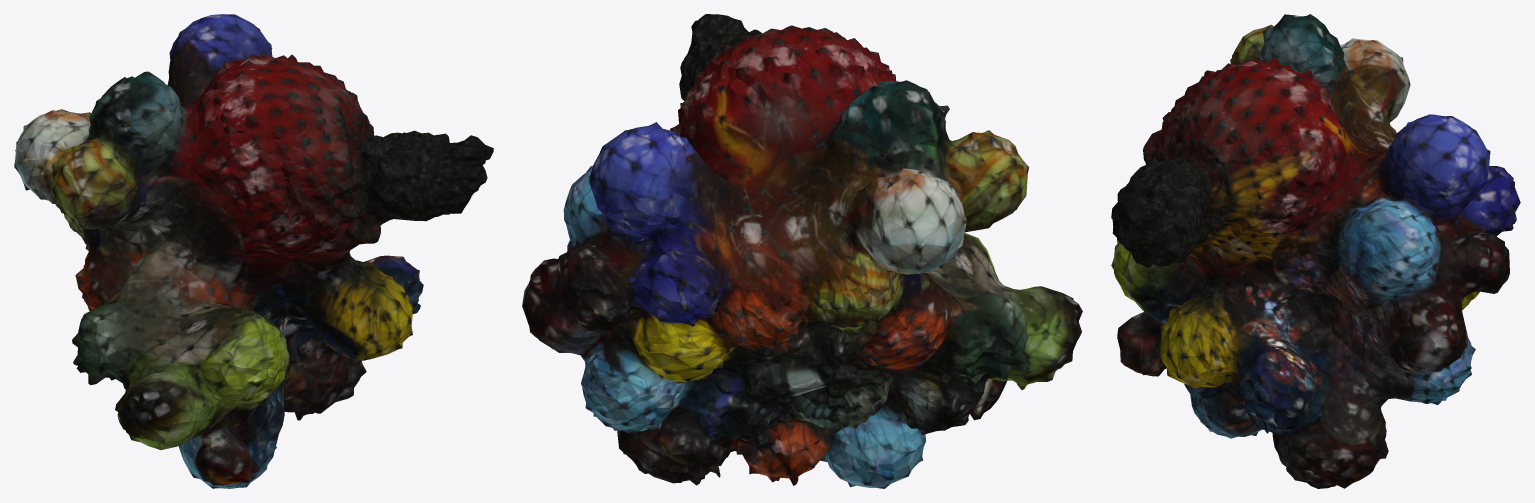
Rendered from a_marbles.glb.
The picture shows the model from 3 angles, left to right: view 1: azimuth 30°, elevation 25°; view 2: azimuth 150°, elevation 25°; view 3: azimuth 270°, elevation 25°; orthographic projection. The views are drawn at different scales.
Visible parts, largest first — view 1: textured.obj; view 2: textured.obj; view 3: textured.obj.
Part boxes in pixels (bbox=[...]): textured.obj: bbox=[14, 14, 493, 488]; textured.obj: bbox=[522, 14, 1082, 488]; textured.obj: bbox=[1111, 14, 1520, 488].
Bounding box in the file's own units: 0.0724 × 0.0747 × 0.0709.
1 material, 1 textured.
